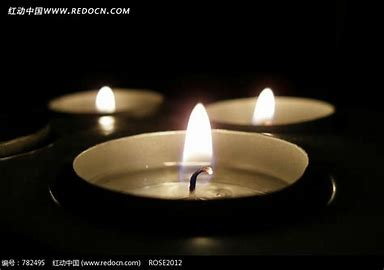Fire: (179, 95, 233, 179)
